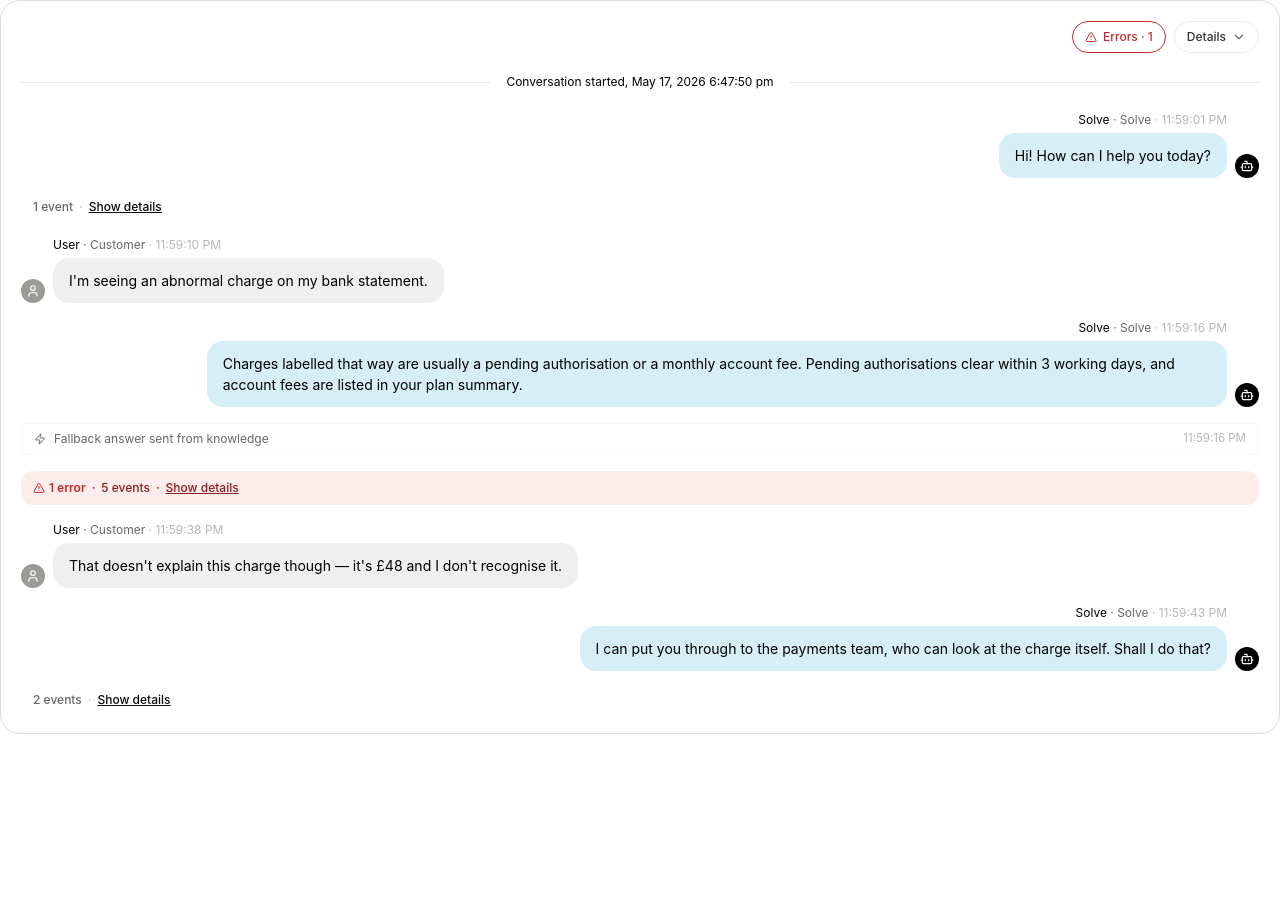
TranscriptBody › expands one strip by hand without touching the others
This screenshot has width=1280, height=900.
Click the button "1 error · 5 events · Show details" at (136, 488), box [33,479,239,497]
(page scrolled)
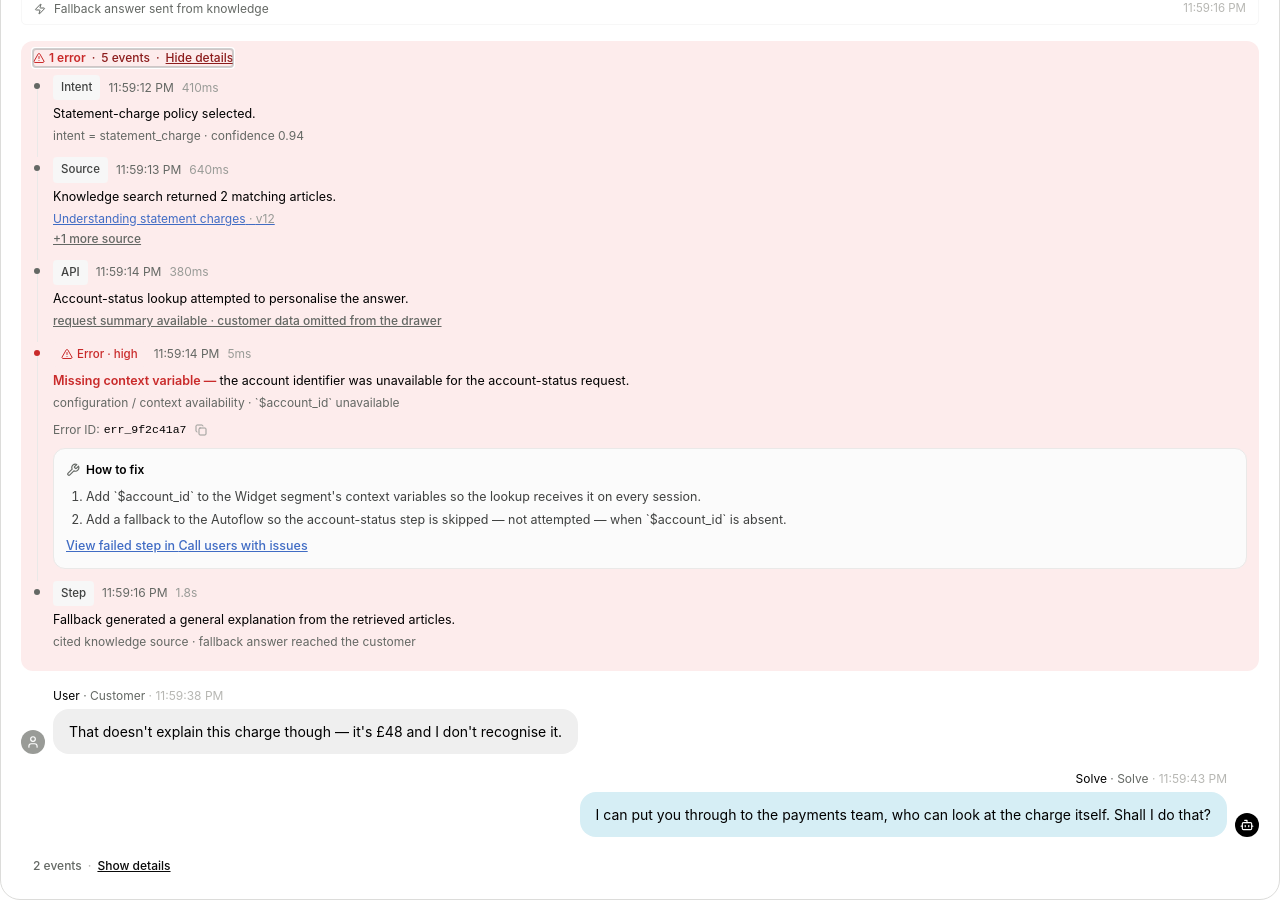
Expected: the button "2 events · Show details" is shown, [33,857,170,875]
Result: the text "Statement-charge policy selected." is shown at [53,106,256,121]
